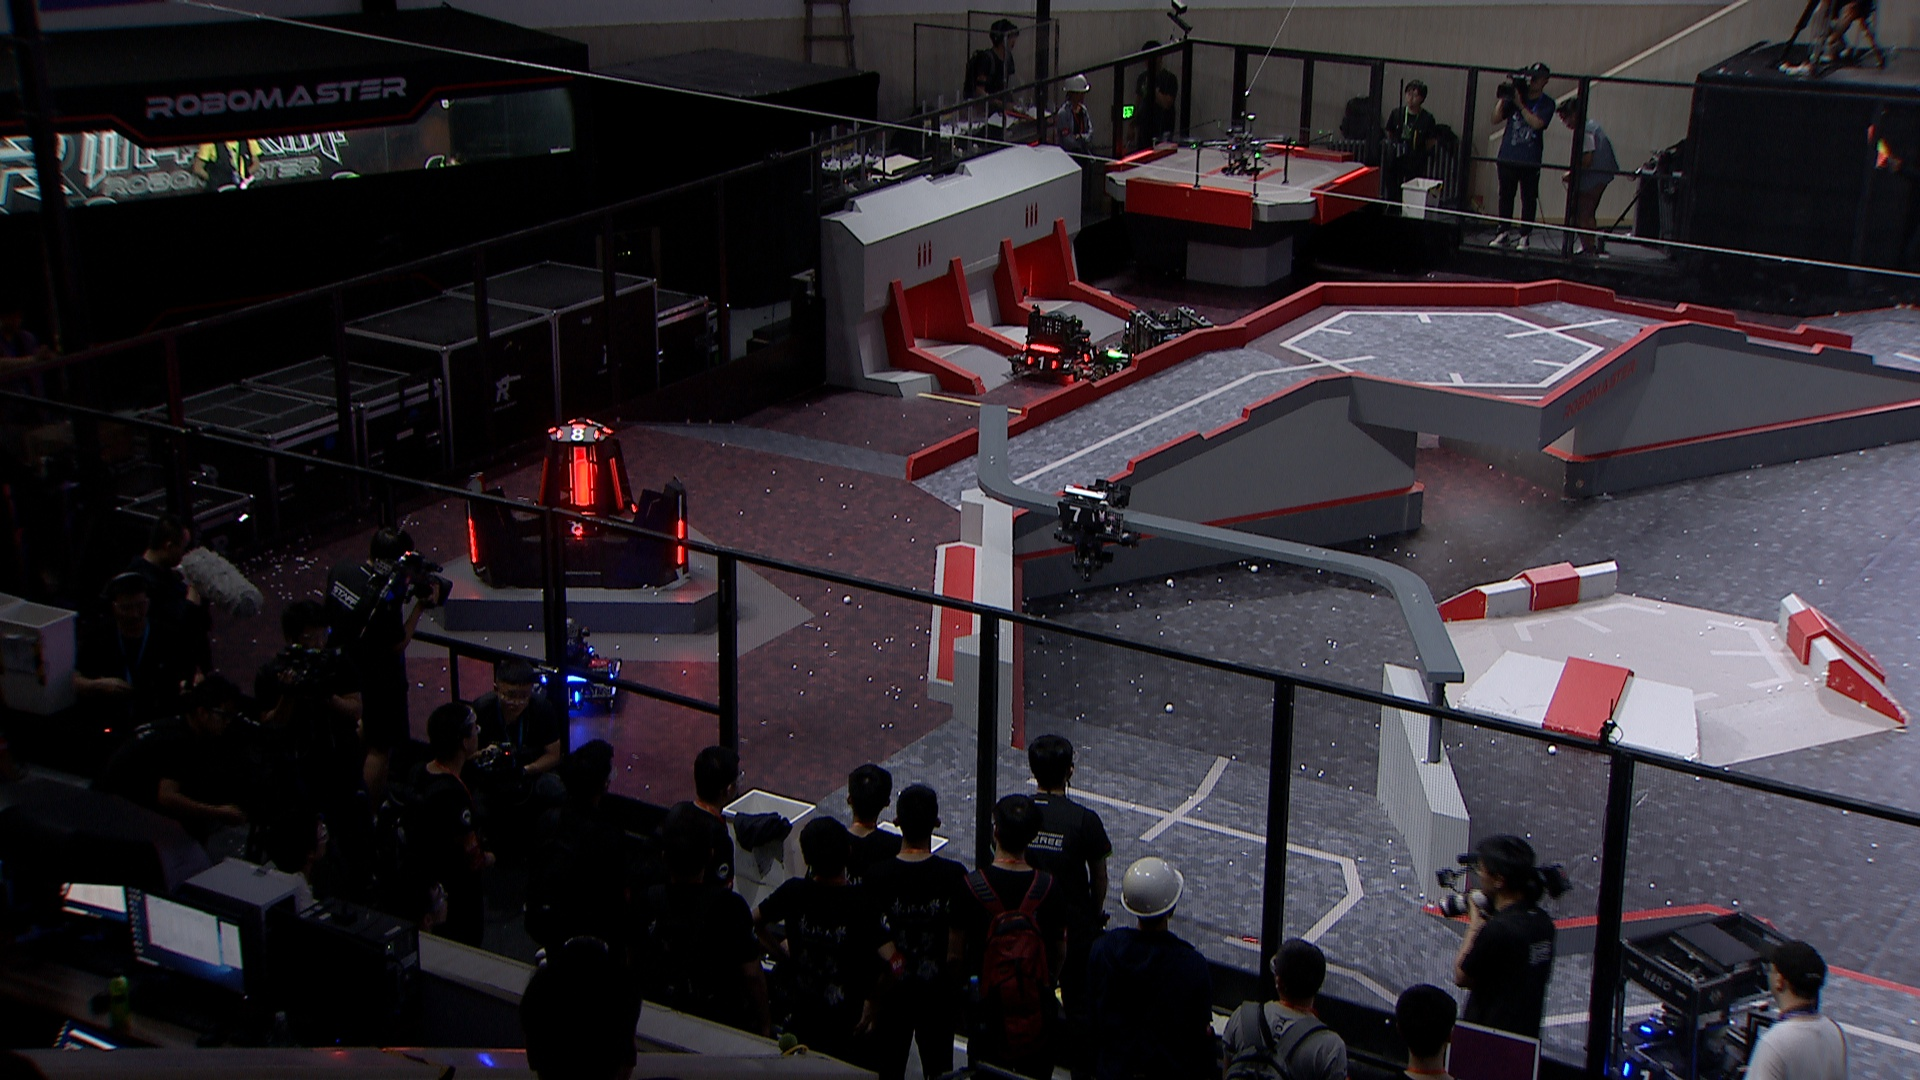armor: (567, 447, 593, 509), (533, 455, 553, 510), (607, 455, 624, 512), (1054, 501, 1096, 524), (555, 425, 603, 443), (671, 518, 688, 568), (465, 514, 481, 567), (1619, 1062, 1662, 1080), (560, 518, 599, 538), (1022, 353, 1060, 373), (1636, 1014, 1665, 1038), (1081, 345, 1101, 365), (1112, 363, 1129, 376)
base: (460, 418, 688, 589)
car: (1582, 911, 1808, 1080), (518, 613, 624, 717), (1122, 305, 1215, 396), (1005, 301, 1105, 381), (1091, 328, 1155, 385)
watcher: (1048, 479, 1139, 582)
